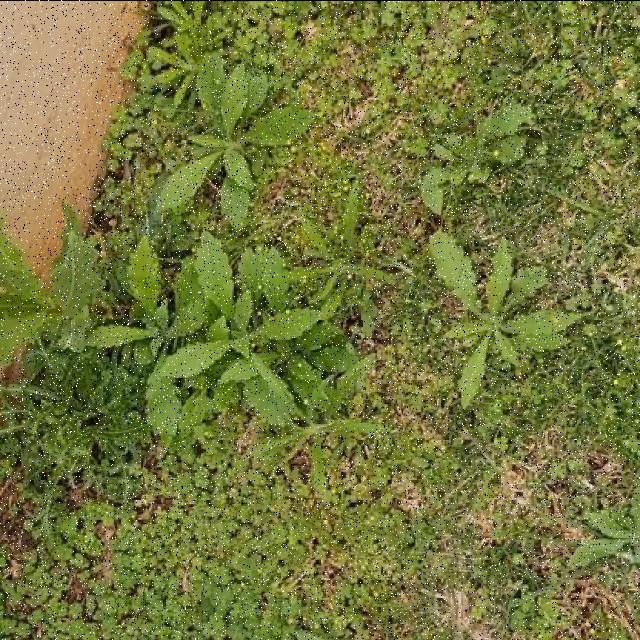weed: (0, 182, 398, 491), (157, 51, 315, 225), (432, 232, 584, 400), (437, 100, 533, 178)
